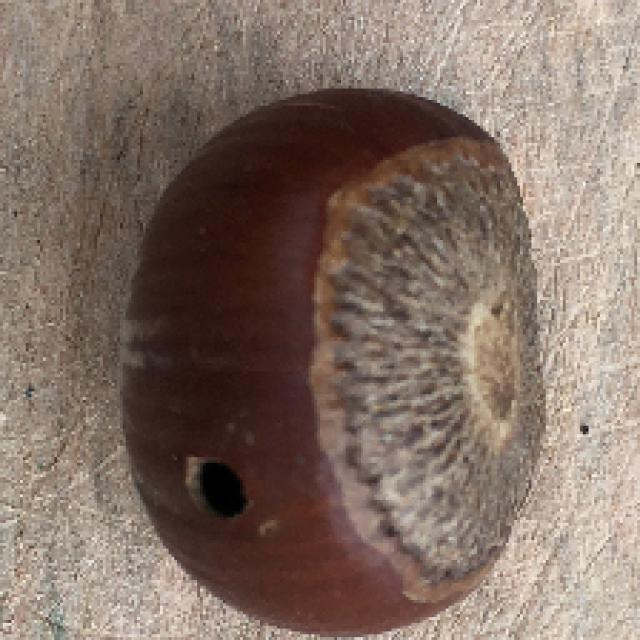damagedHazelnut: (96, 76, 582, 640)
